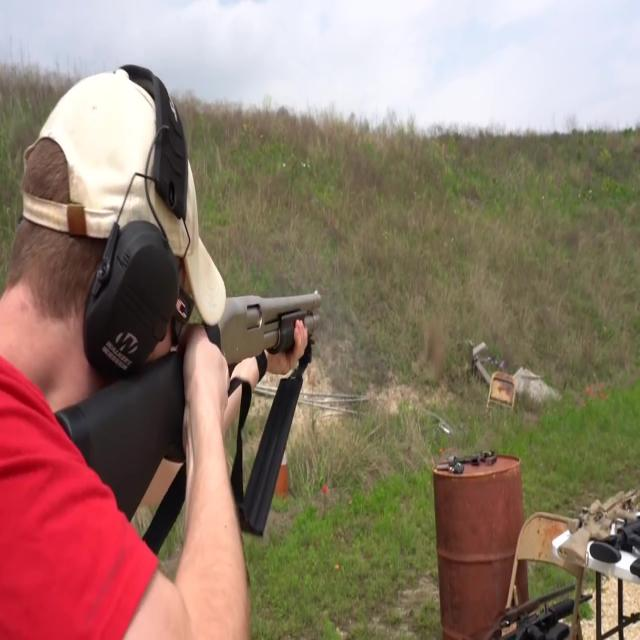Weapon: (22, 259, 346, 544), (443, 569, 640, 640), (550, 469, 640, 583), (414, 418, 510, 495)
